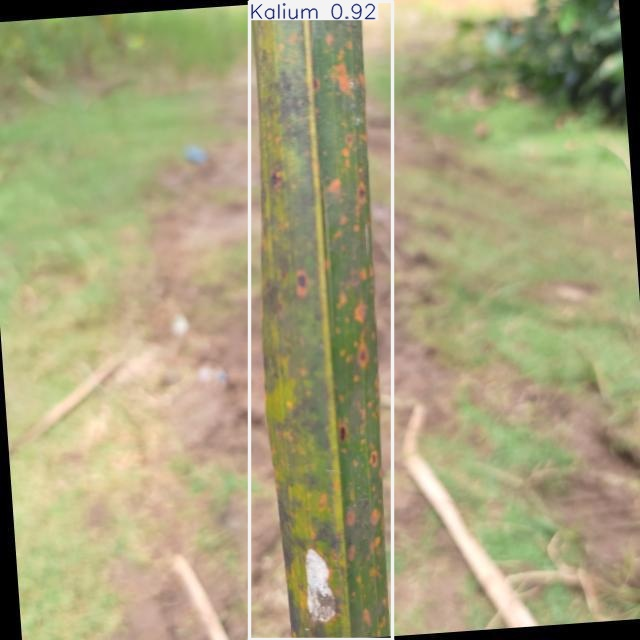Kalium: (250, 1, 393, 640)
